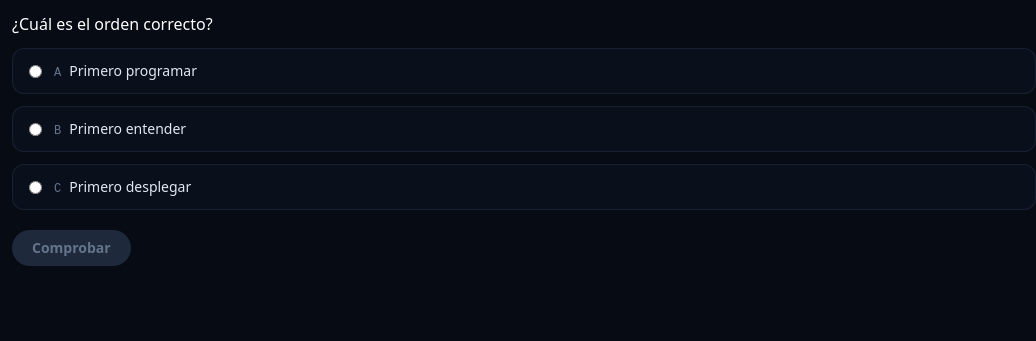
QuizPlayer › muestra el error de la API sin inventar un resultado
The image size is (1036, 341).
Click the radio button labelled "Primero entender".
click(36, 130)  # box [29,123,42,136]
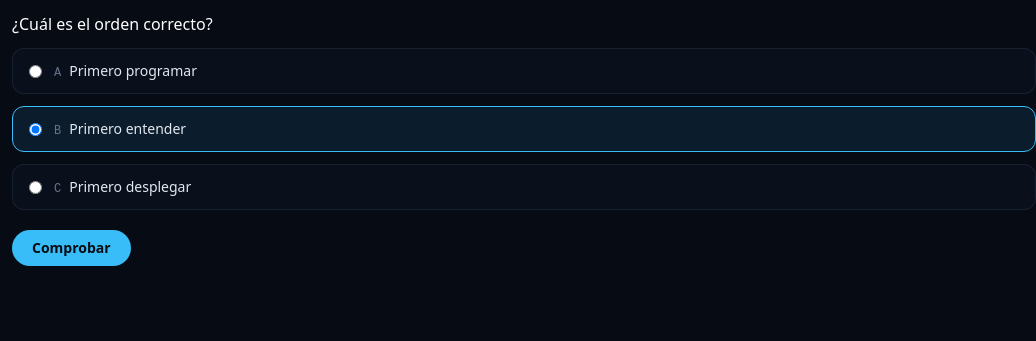
Click the button "Comprobar".
click(71, 248)  # box [12,230,131,266]
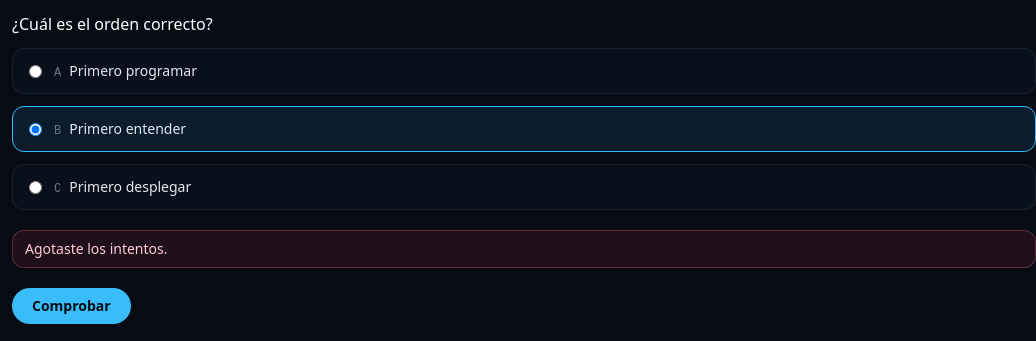
Check: the message reads "Agotaste los intentos.", box [25,239,168,258]
